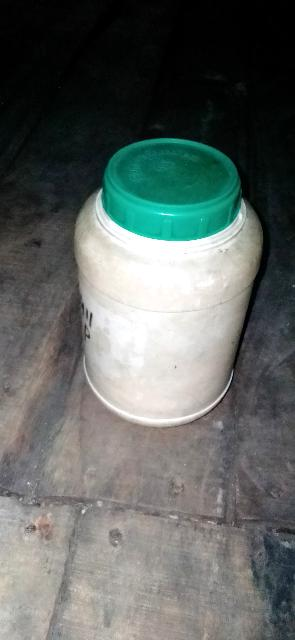hardplastic: (69, 128, 263, 434)
